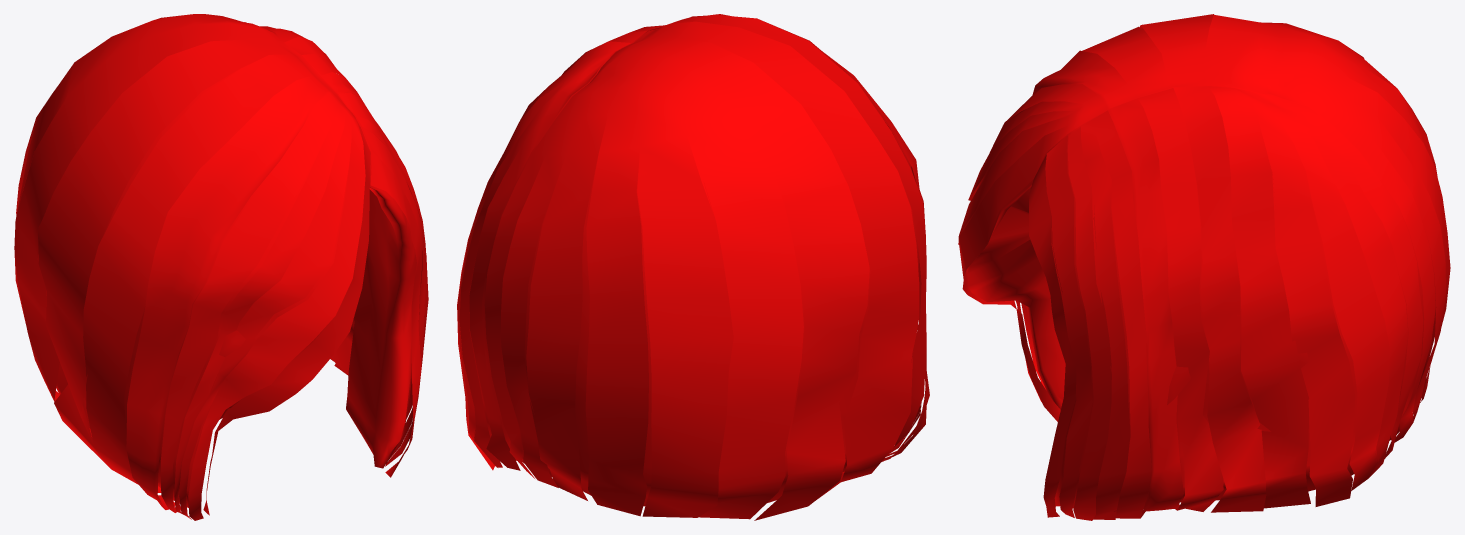
File: bob02_M.glb
3 renders of one model, left to right at view 1: azimuth 30°, elevation 25°; view 2: azimuth 150°, elevation 25°; view 3: azimuth 270°, elevation 25°, orthographic. The views are drawn at different scales.
Size of the model in its own units: 0.2052 by 0.2374 by 0.2414.
Materials: 1 (1 with a texture image).
